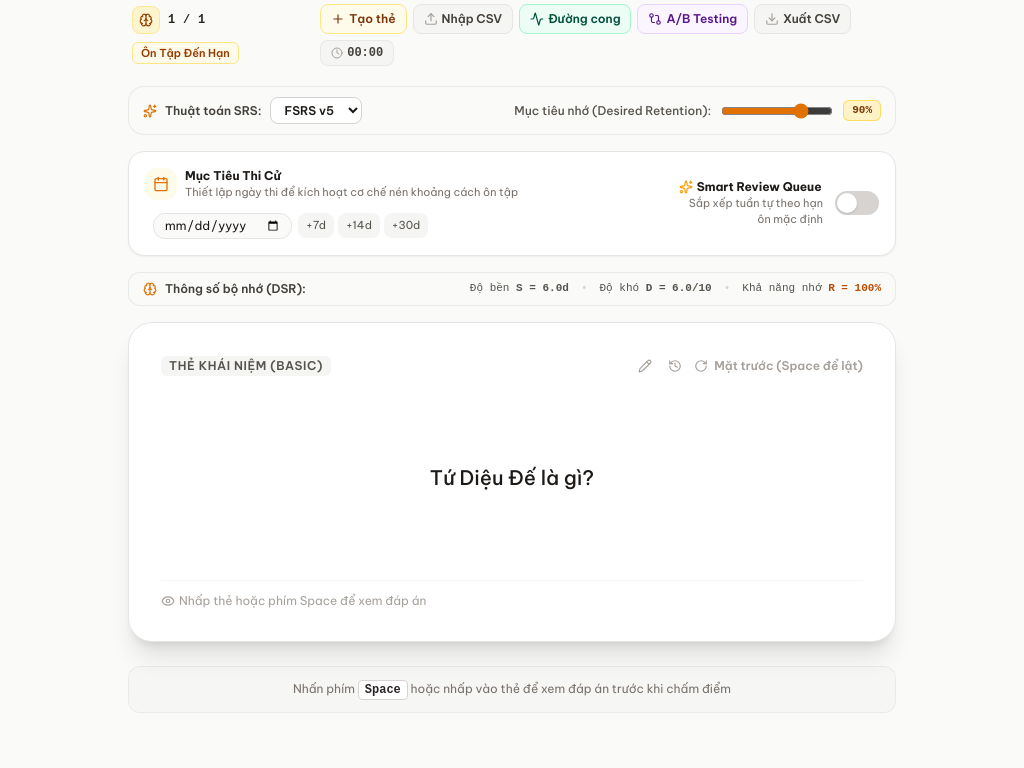
Test: Phase F6.11 Task 4: View History Modal & Timeline › FlashcardReviewStudio History Integration & Shortcut › opens history modal when clicking the History button on the card view
Expected: the text "Tứ Diệu Đế là gì?" is shown, top-left (430, 465), bottom-right (594, 490)
Click the button with test id "btn-view-card-history": (675, 366) top-left (664, 354), bottom-right (686, 376)
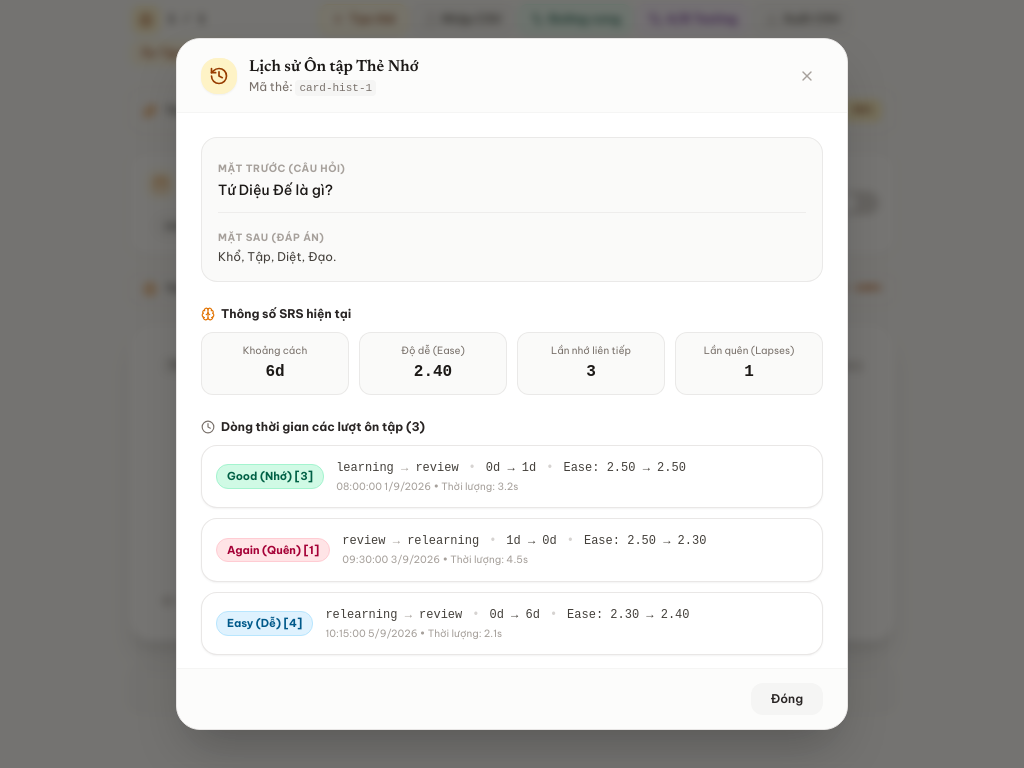
Expected: the dialog "Lịch sử Ôn tập Thẻ Nhớ" is shown
